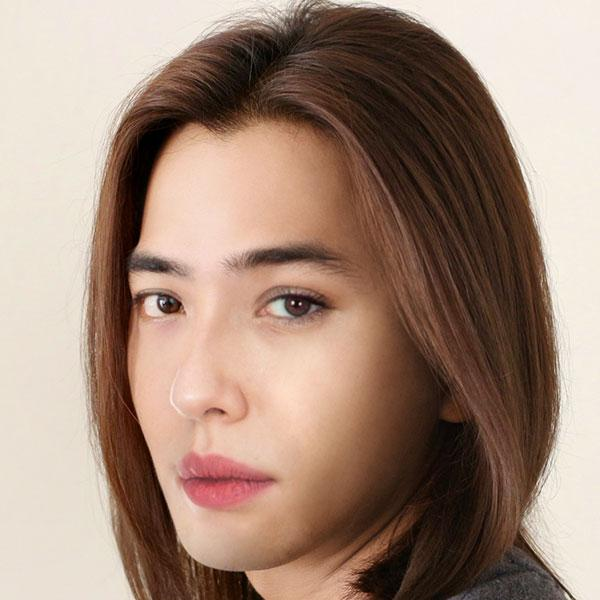Eyes: (238, 279, 337, 334), (124, 281, 192, 332)
